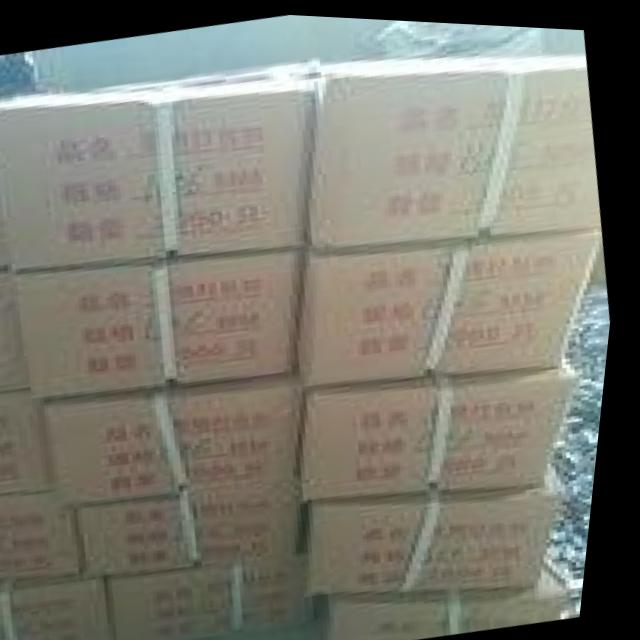box: (0, 69, 318, 273), (313, 49, 606, 250), (308, 224, 606, 386), (19, 246, 310, 401), (310, 358, 587, 497), (49, 370, 310, 510), (317, 459, 572, 593), (89, 480, 309, 579), (340, 559, 579, 640), (120, 555, 325, 640), (0, 491, 92, 580), (0, 577, 123, 640), (0, 393, 62, 495), (0, 273, 39, 393), (0, 193, 13, 265)
